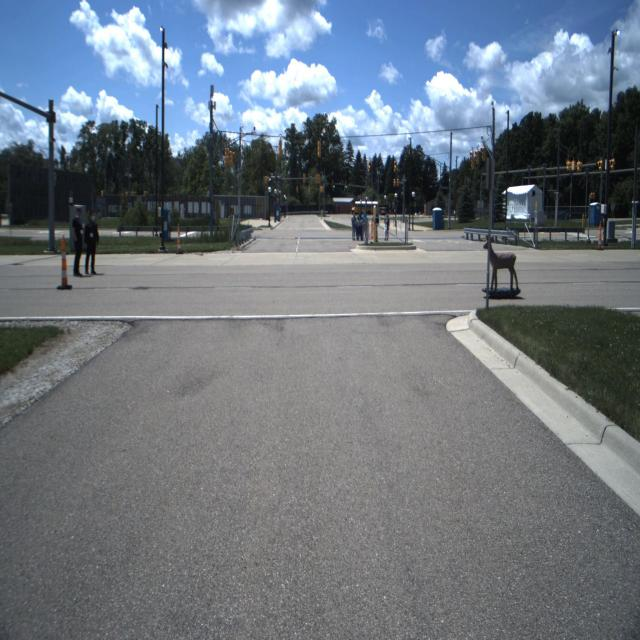Deer: (483, 234, 522, 290)
